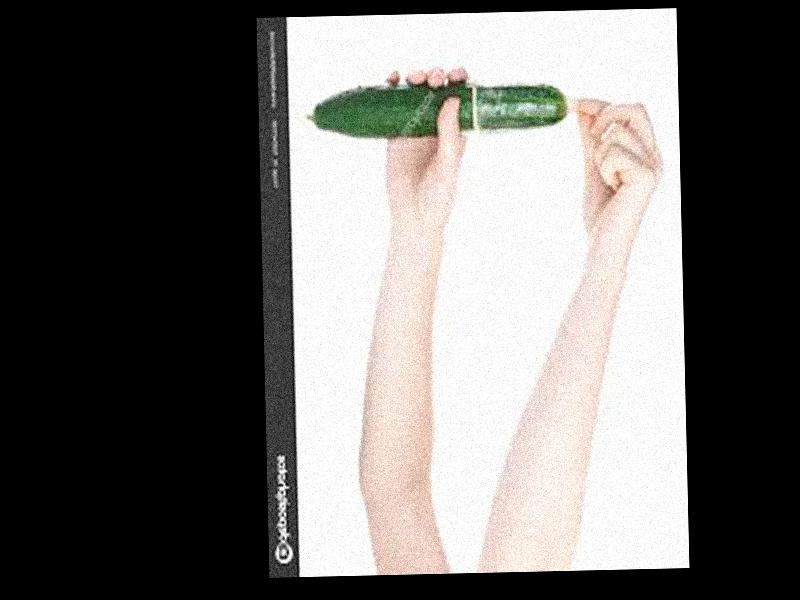Cucumber: (305, 82, 568, 135)
